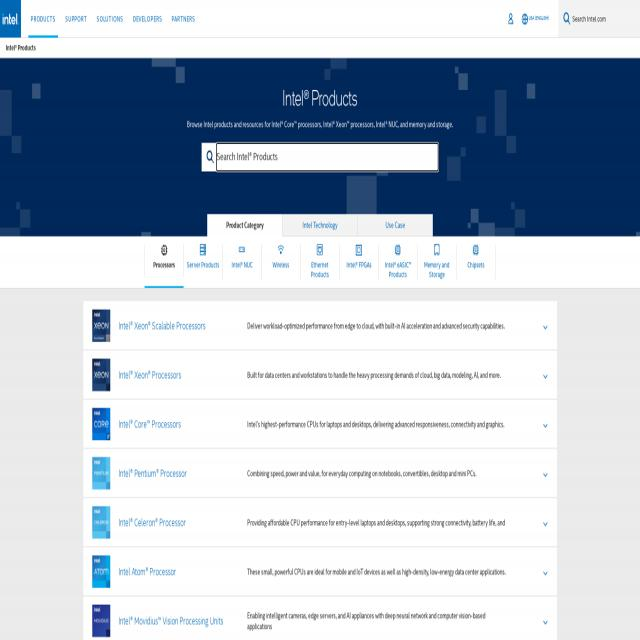button: (558, 0, 640, 37), (282, 214, 358, 236), (208, 214, 282, 236), (358, 214, 432, 236), (222, 245, 262, 279), (300, 245, 340, 279), (456, 245, 496, 279), (378, 246, 418, 280), (339, 245, 378, 279), (418, 245, 457, 279), (130, 0, 164, 38), (184, 245, 222, 279), (262, 245, 300, 279), (144, 245, 183, 277), (94, 0, 126, 38), (520, 0, 550, 38), (28, 0, 58, 38), (170, 0, 198, 38), (63, 0, 89, 38), (92, 457, 111, 490), (92, 604, 110, 638), (92, 309, 110, 342), (92, 555, 110, 588), (92, 359, 110, 391), (92, 408, 110, 440), (92, 506, 110, 538), (202, 143, 216, 171), (506, 0, 516, 38), (2, 13, 18, 25), (540, 615, 550, 631), (541, 367, 550, 384), (542, 467, 551, 484), (541, 319, 550, 335), (542, 417, 550, 433), (542, 566, 550, 581), (542, 515, 549, 531)
field: (216, 144, 438, 172)
